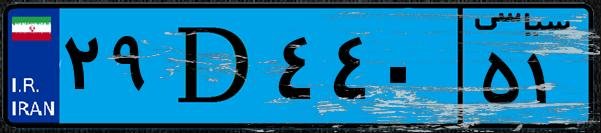0: (385, 28, 445, 110)
1: (525, 38, 570, 115)
2: (57, 26, 110, 100)
4: (270, 28, 330, 110), (330, 28, 385, 110)
5: (475, 38, 525, 113)
9: (110, 28, 158, 98)
D: (158, 12, 270, 120)
